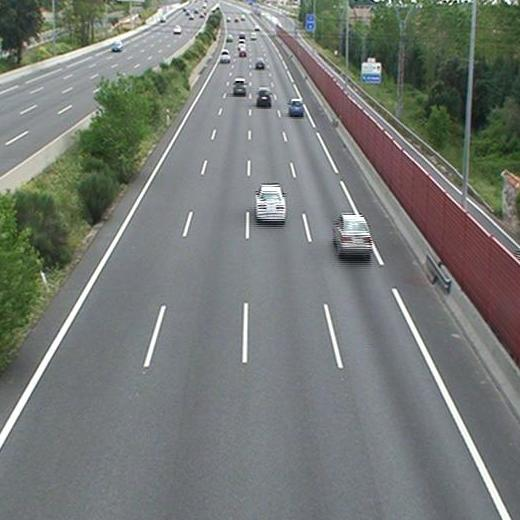car: (334, 215, 370, 252), (256, 185, 285, 221), (232, 79, 247, 95), (289, 99, 303, 116), (256, 89, 271, 103), (219, 50, 230, 62), (255, 59, 265, 69)
